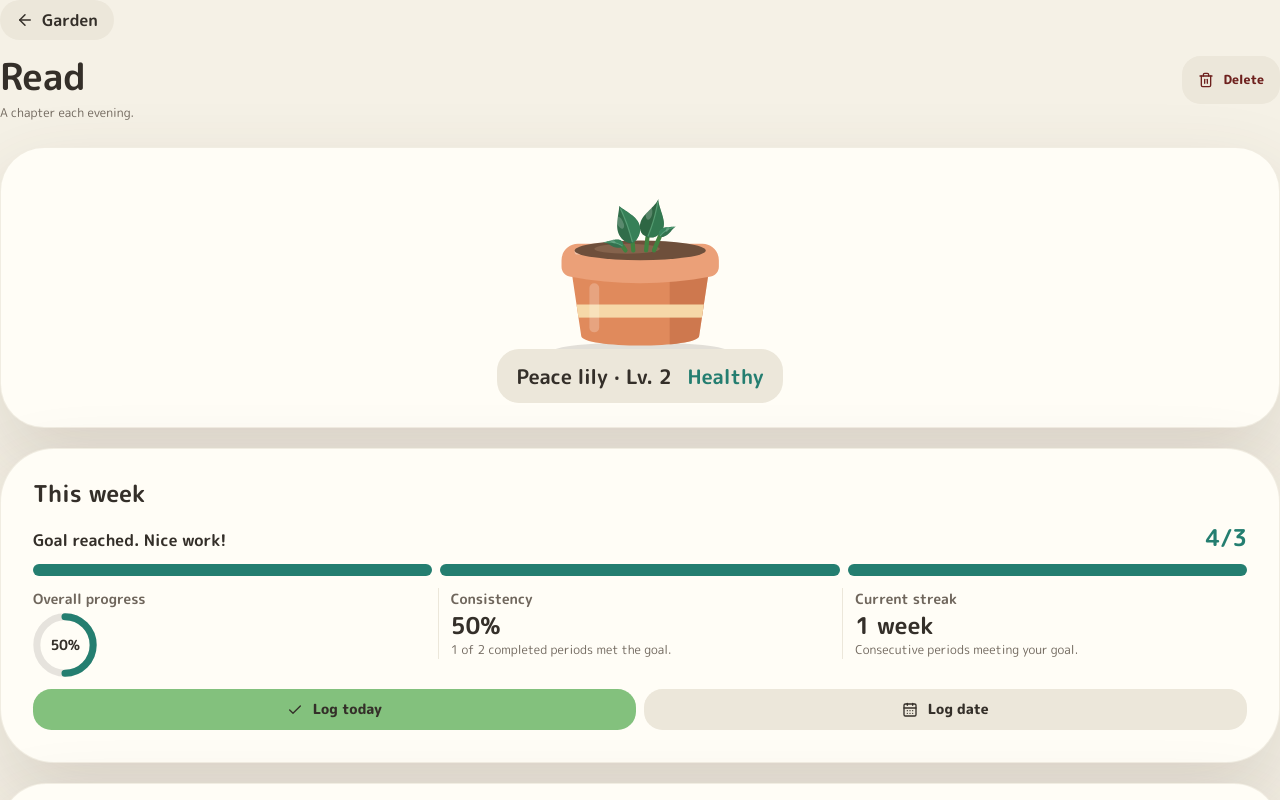
Scenario: the cards at the top › asks before deleting
Expected: the heading "Read" is shown, [0,50,86,102]
Click the button with aria-label "Delete habit".
click(1231, 80)  # box [1182,56,1279,104]
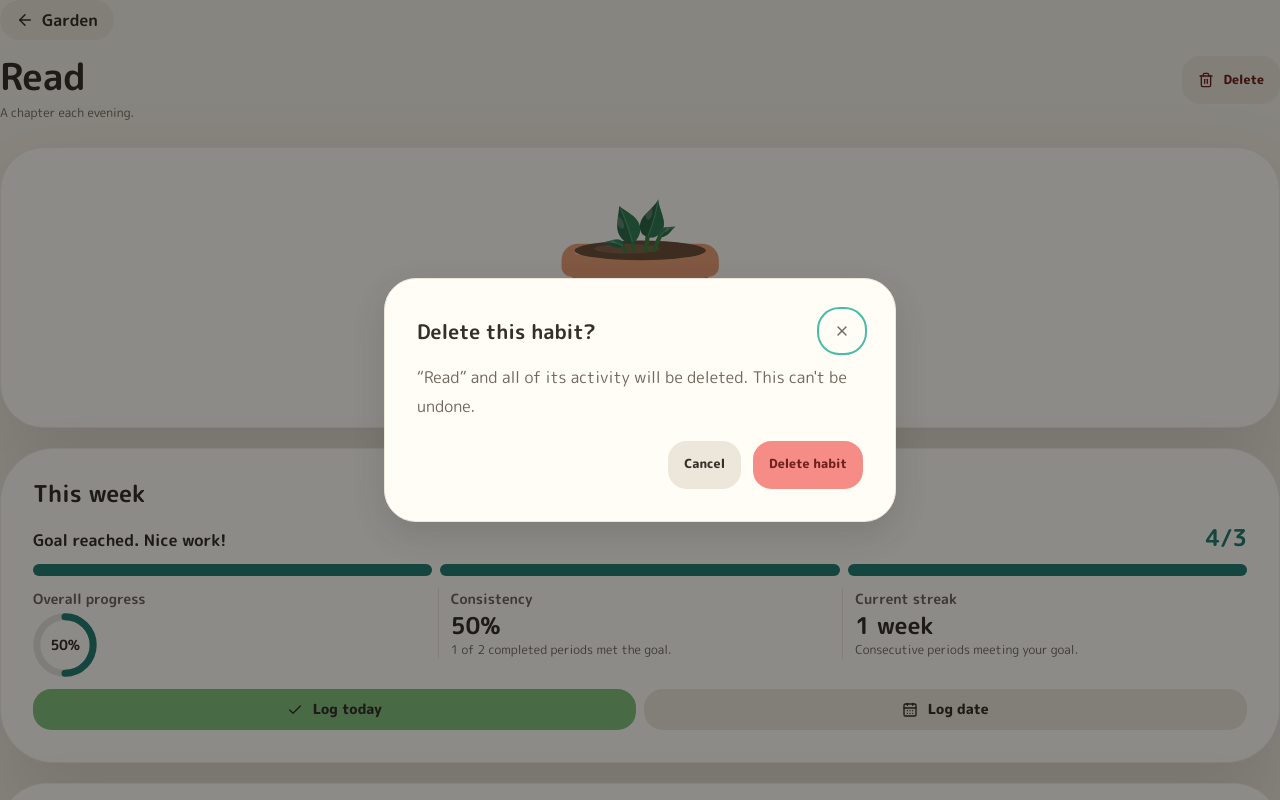
Expected: the dialog is shown, [384,278,896,522]
Expected: the heading "Delete this habit?" is shown, [417,319,596,344]
